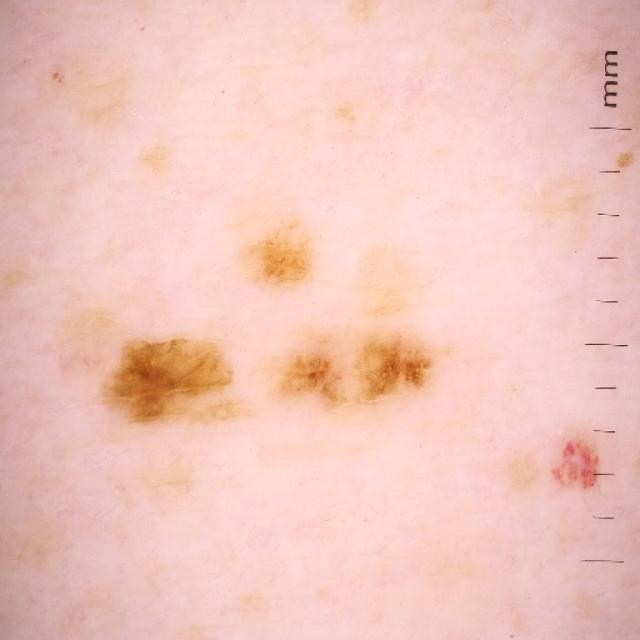Melanoma: (105, 340, 232, 420), (355, 340, 429, 400), (246, 222, 310, 284), (284, 355, 345, 401)
